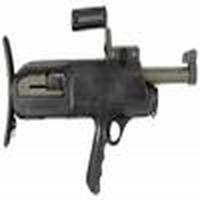gun: (6, 3, 198, 188)
